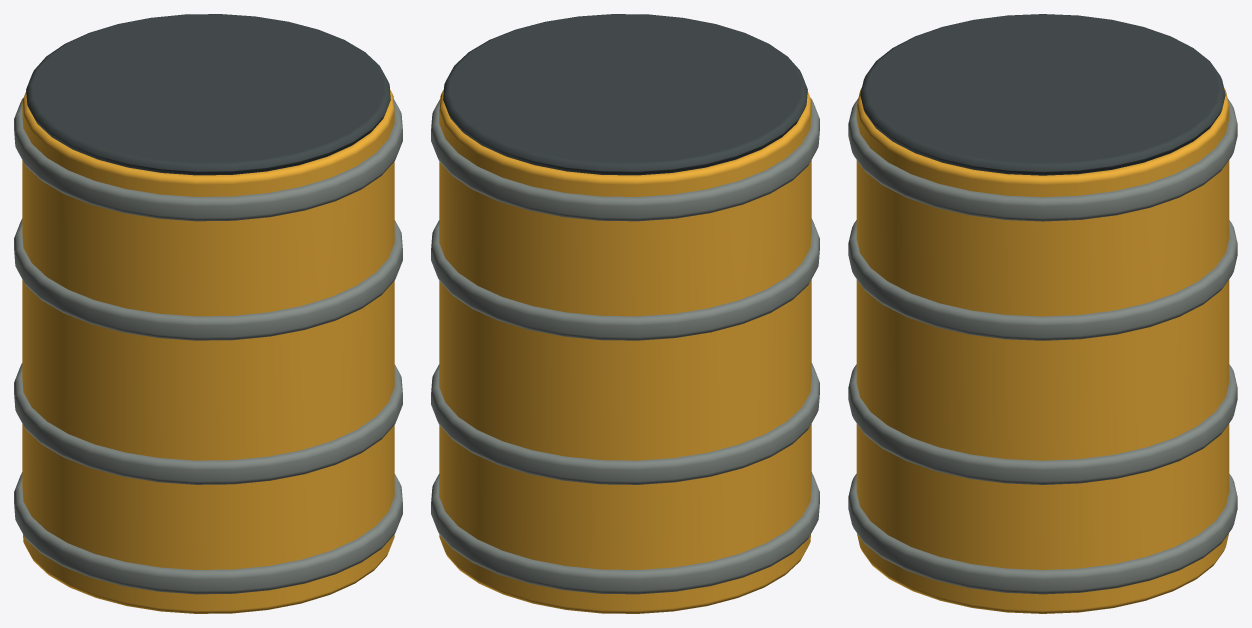
File: drum.glb
The picture shows the model from 3 angles, left to right: view 1: azimuth 30°, elevation 25°; view 2: azimuth 150°, elevation 25°; view 3: azimuth 270°, elevation 25°; orthographic projection.
Parts seen in each view (by area): view 1: Painted steel drum, Lid, Pressed band.002, Pressed band.001, Pressed band.003, Pressed band; view 2: Painted steel drum, Lid, Pressed band.002, Pressed band.001, Pressed band.003, Pressed band; view 3: Painted steel drum, Lid, Pressed band.003, Pressed band.001, Pressed band, Pressed band.002.
Part boxes in pixels (x1,y1,x2,y2): Painted steel drum: [22, 89, 394, 613]; Lid: [26, 14, 390, 175]; Pressed band.002: [14, 218, 402, 340]; Pressed band.001: [14, 363, 402, 484]; Pressed band.003: [14, 98, 402, 221]; Pressed band: [14, 472, 402, 594]; Painted steel drum: [439, 89, 811, 613]; Lid: [443, 14, 807, 175]; Pressed band.002: [431, 218, 819, 340]; Pressed band.001: [431, 363, 819, 484]; Pressed band.003: [431, 98, 819, 221]; Pressed band: [431, 472, 819, 594]; Painted steel drum: [856, 87, 1229, 613]; Lid: [860, 14, 1225, 175]; Pressed band.003: [848, 98, 1237, 221]; Pressed band.001: [848, 364, 1237, 484]; Pressed band: [848, 474, 1237, 594]; Pressed band.002: [848, 220, 1237, 340].
Bounding box in the file's own units: 0.71 × 0.9035 × 0.71.
